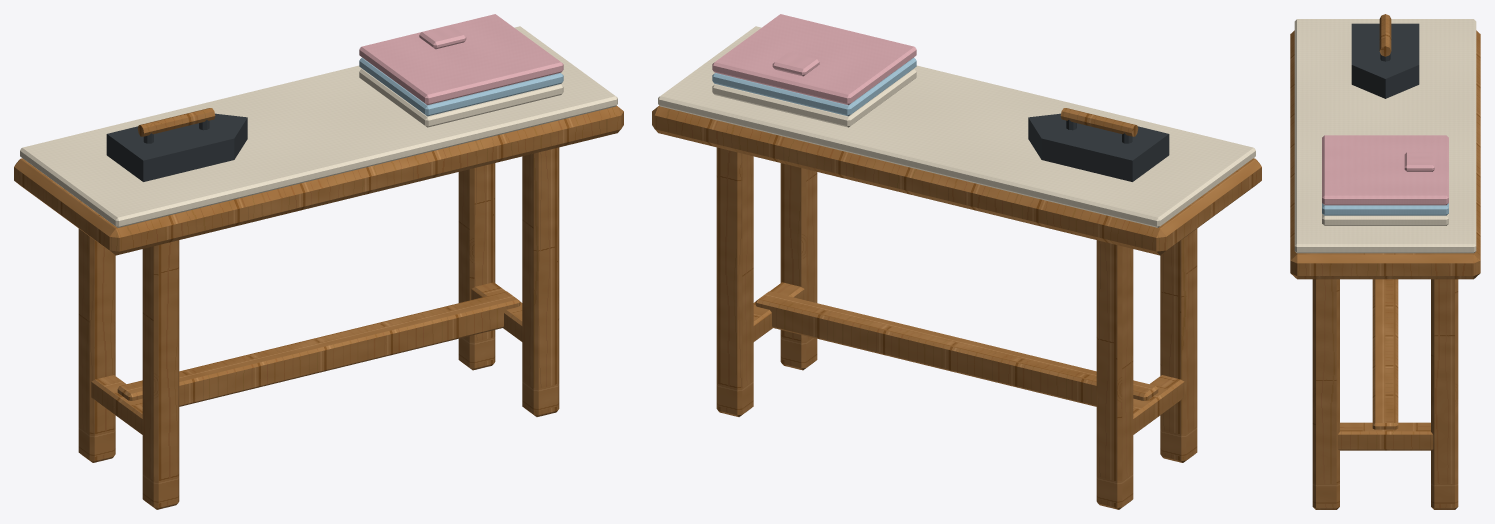
Rendered from Furn_IroningTable.fbx.
3 views of the same model, side by side, from view 1: azimuth 30°, elevation 25°; view 2: azimuth 150°, elevation 25°; view 3: azimuth 270°, elevation 25° (orthographic). The views are drawn at different scales.
Parts seen in each view (by area): view 1: Furn_IroningTable_Mesh; view 2: Furn_IroningTable_Mesh; view 3: Furn_IroningTable_Mesh.
Boxes of the visible parts, x1,y1,x2,y2 form: Furn_IroningTable_Mesh: (14, 14, 623, 509); Furn_IroningTable_Mesh: (652, 14, 1261, 509); Furn_IroningTable_Mesh: (1290, 14, 1480, 509).
Size of the model in its own units: 1.3 by 0.85 by 0.45.
4 materials, 3 textured.
